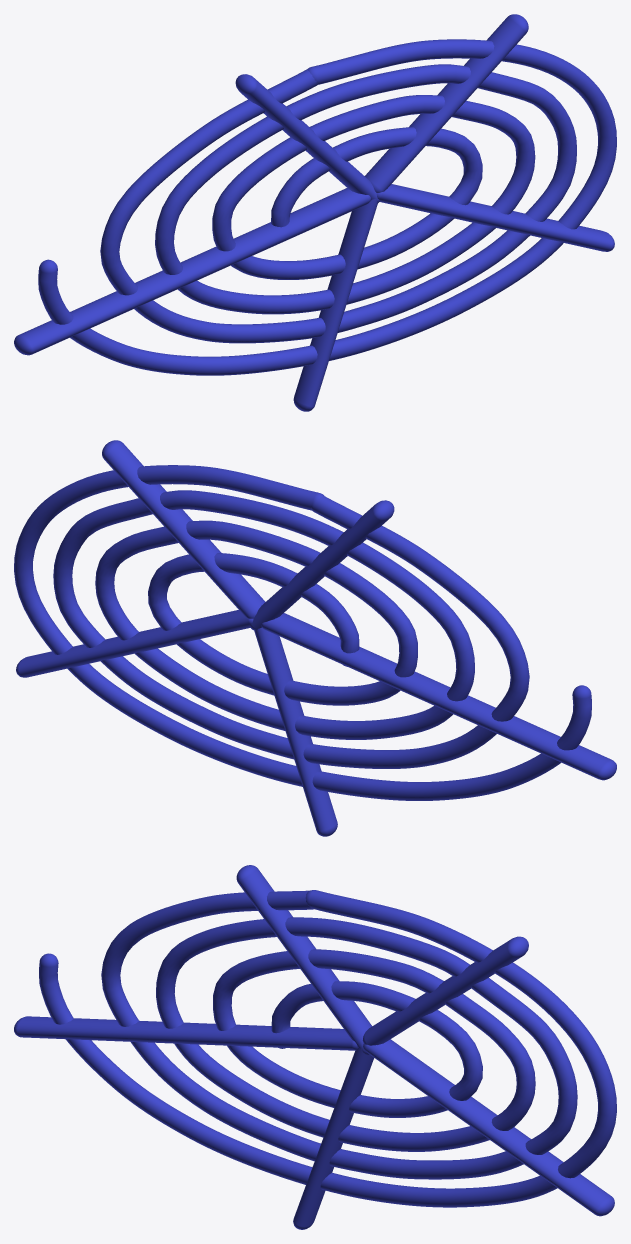
Rendered from Spiral.fbx.
3 views of the same model, one above another, from view 1: azimuth 30°, elevation 25°; view 2: azimuth 150°, elevation 25°; view 3: azimuth 330°, elevation 25° (orthographic).
Parts seen in each view (by area): view 1: root (×9); view 2: root (×9); view 3: root (×9).
Boxes of the visible parts, x1=… form: root (×9): x1=14, y1=14, x2=616, y2=411; root (×9): x1=14, y1=440, x2=616, y2=836; root (×9): x1=14, y1=865, x2=616, y2=1229.
Size of the model in its own units: 0.7205 by 0.3995 by 0.0341.
